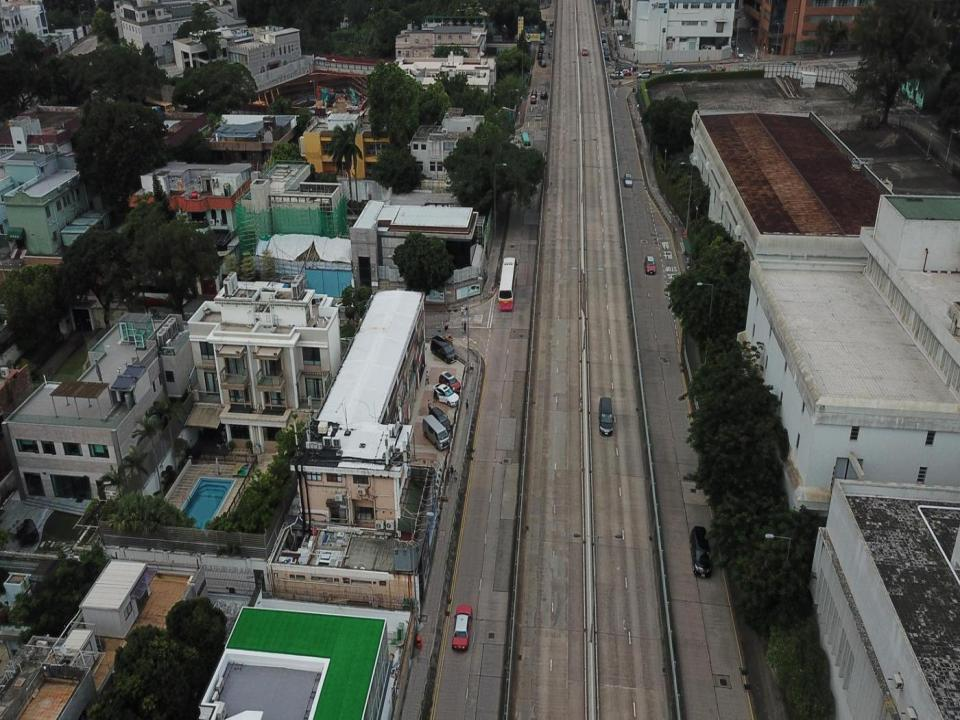bus: (498, 258, 518, 310), (520, 130, 532, 152), (539, 31, 545, 44)
car: (451, 604, 473, 652), (433, 383, 460, 407), (429, 405, 451, 431), (336, 297, 366, 316), (439, 371, 461, 395), (643, 252, 656, 274), (668, 66, 689, 76), (781, 60, 796, 72), (638, 68, 652, 78), (624, 172, 632, 189), (740, 65, 753, 75), (711, 65, 726, 73), (610, 72, 624, 80), (736, 44, 744, 56), (621, 66, 630, 76), (581, 47, 589, 58), (730, 36, 736, 50), (603, 50, 610, 61), (599, 28, 606, 38), (540, 88, 547, 98), (538, 58, 546, 66), (601, 34, 607, 44), (531, 95, 537, 104), (602, 42, 607, 51), (601, 25, 606, 33), (548, 51, 553, 59), (532, 88, 536, 96), (538, 46, 542, 54), (550, 28, 554, 35)
van: (690, 526, 712, 578), (422, 415, 449, 450), (431, 335, 457, 364), (598, 397, 614, 437)
